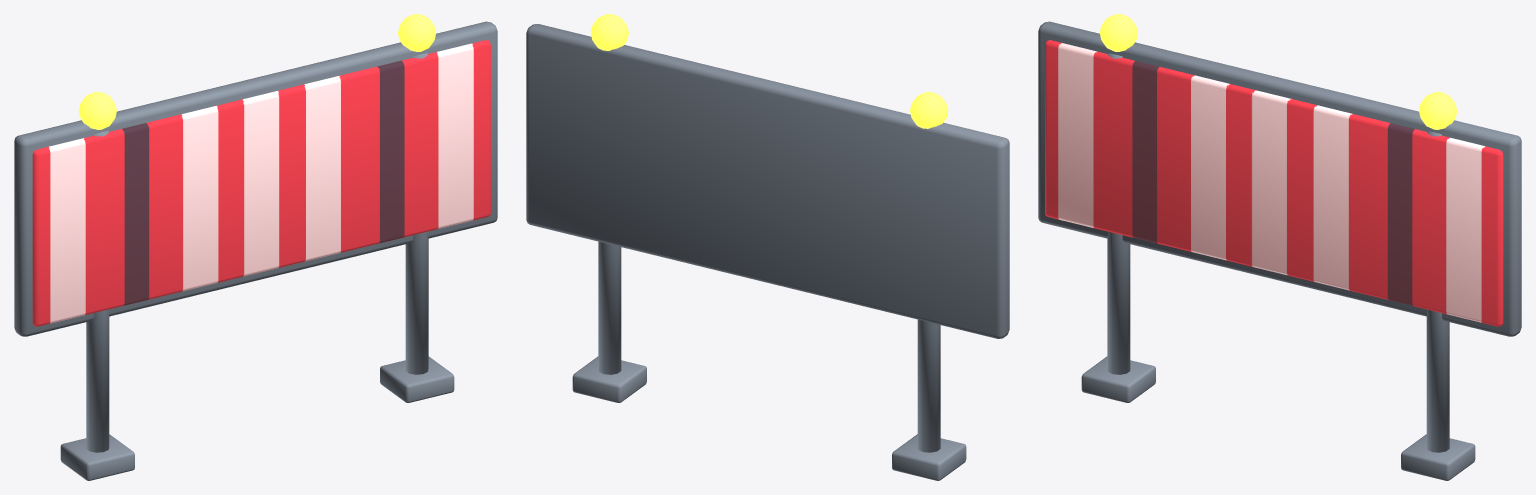
Rendered from chevron_board.glb.
3 views of the same model, side by side, from view 1: azimuth 30°, elevation 25°; view 2: azimuth 150°, elevation 25°; view 3: azimuth 330°, elevation 25° (orthographic).
Visible parts, largest first — view 1: ChevronPanel, ChevronFrame, SignPost_L, SignPost_R, PostBase_L, PostBase_R, Beacon_R, Beacon_L; view 2: ChevronFrame, SignPost_L, SignPost_R, PostBase_L, PostBase_R, Beacon_R, Beacon_L; view 3: ChevronPanel, ChevronFrame, SignPost_R, SignPost_L, PostBase_L, PostBase_R, Beacon_L, Beacon_R.
Part boxes in pixels (box(x1,y1,x2,y2)): ChevronPanel: box(32, 40, 490, 326); ChevronFrame: box(14, 21, 497, 336); SignPost_L: box(86, 130, 109, 452); SignPost_R: box(405, 53, 428, 374); PostBase_L: box(60, 434, 134, 480); PostBase_R: box(380, 356, 454, 402); Beacon_R: box(398, 14, 436, 51); Beacon_L: box(78, 92, 116, 129); ChevronFrame: box(526, 24, 1009, 338); SignPost_L: box(917, 319, 940, 452); SignPost_R: box(598, 241, 621, 374); PostBase_L: box(892, 434, 966, 480); PostBase_R: box(572, 356, 646, 402); Beacon_R: box(590, 14, 628, 50); Beacon_L: box(910, 92, 948, 128); ChevronPanel: box(1045, 40, 1503, 326); ChevronFrame: box(1038, 21, 1521, 336); SignPost_R: box(1426, 130, 1449, 452); SignPost_L: box(1107, 53, 1130, 374); PostBase_L: box(1081, 356, 1155, 402); PostBase_R: box(1401, 434, 1475, 480); Beacon_L: box(1099, 14, 1137, 51); Beacon_R: box(1419, 92, 1457, 129).
Size of the model in its own units: 3.74 by 2.79 by 0.38.
3 materials, 1 textured.
